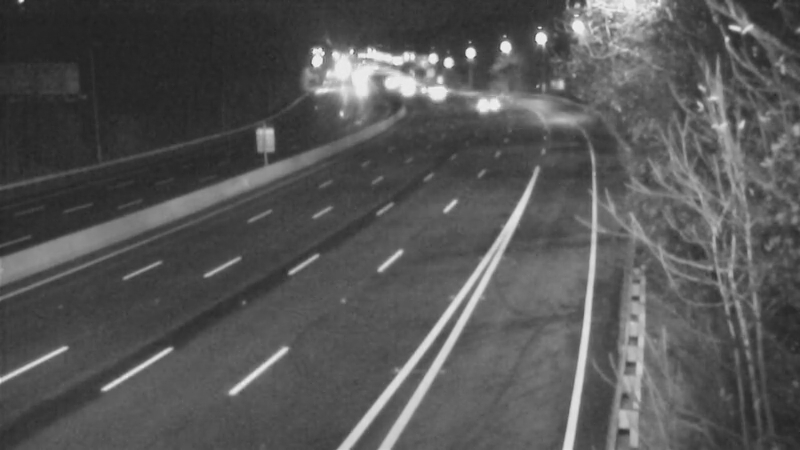vehicle: (413, 68, 463, 118), (460, 77, 510, 127)
